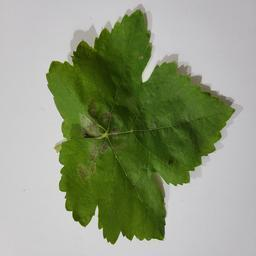Powdery-Mildew: (78, 111, 112, 140), (130, 169, 160, 200), (79, 145, 100, 182)
